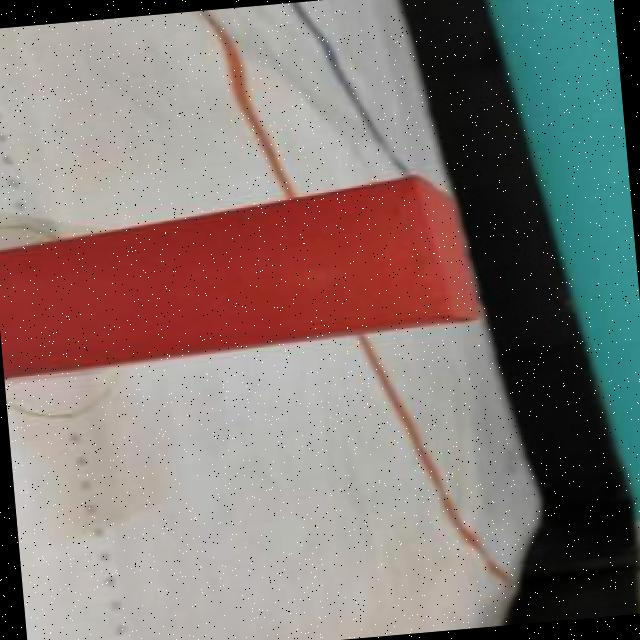redbox: (0, 167, 489, 379)
